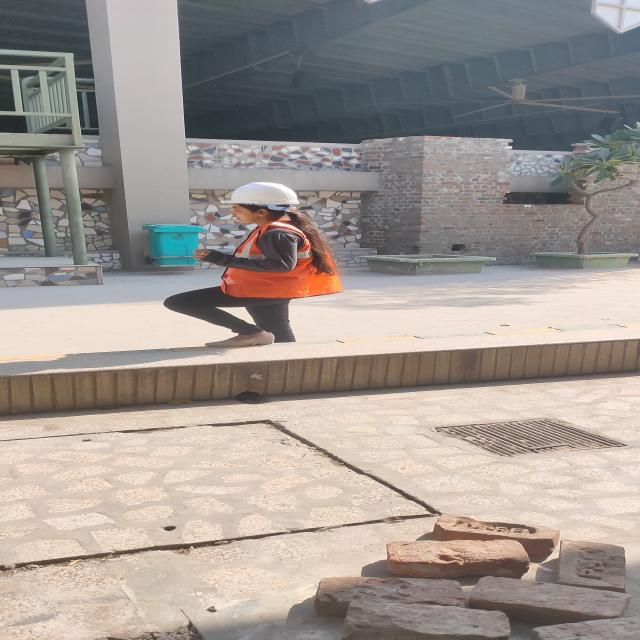safe: (194, 182, 343, 342)
